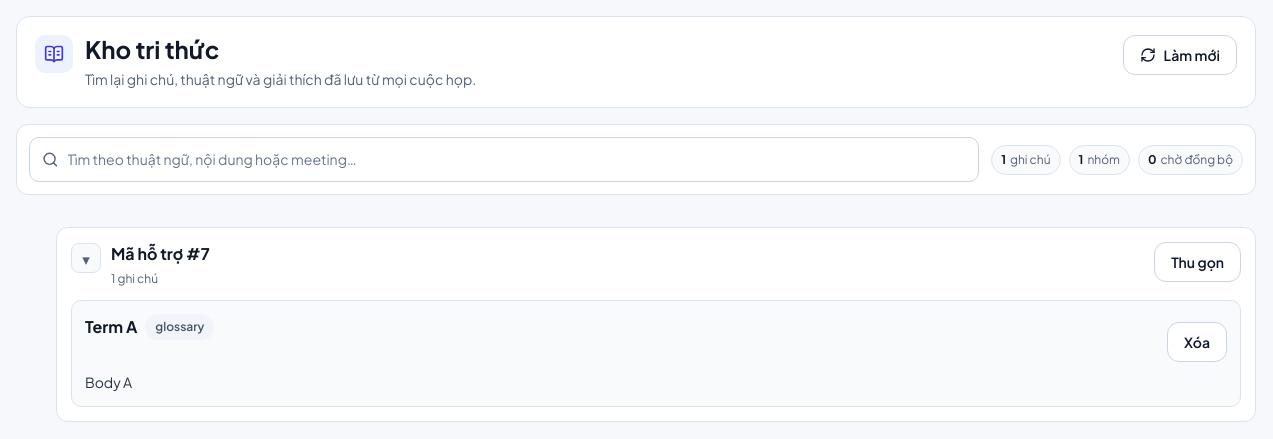
Test case: KnowledgeVaultScene › collapses and expands a meeting group
The width and height of the screenshot is (1273, 439).
Click the button with test id "knowledge-vault-collapse-7". click: [1198, 262]
box: [1154,242,1241,282]
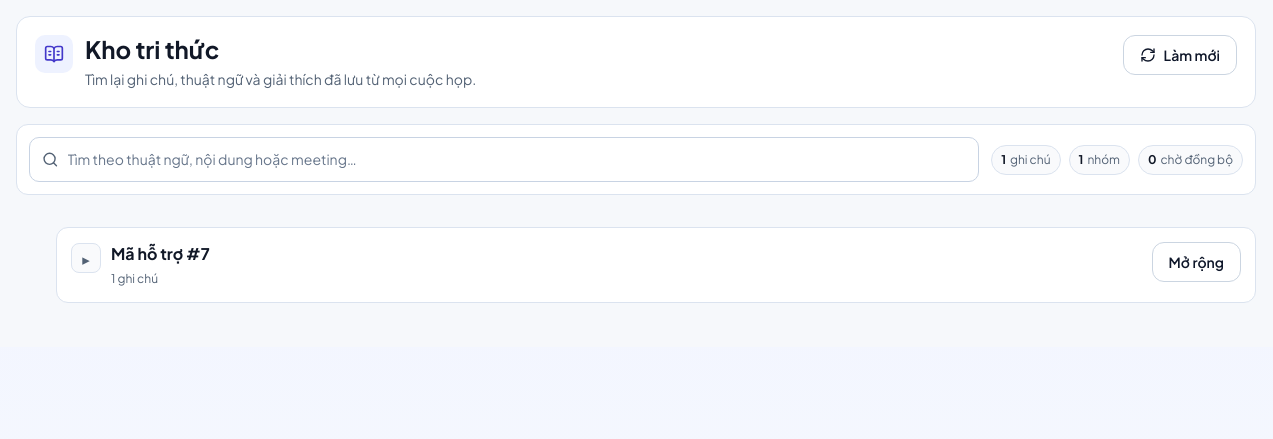
Result: the text "Body A" is gone
Click the button with test id "knowledge-vault-collapse-7". click: [1196, 262]
box: [1152,242,1241,282]
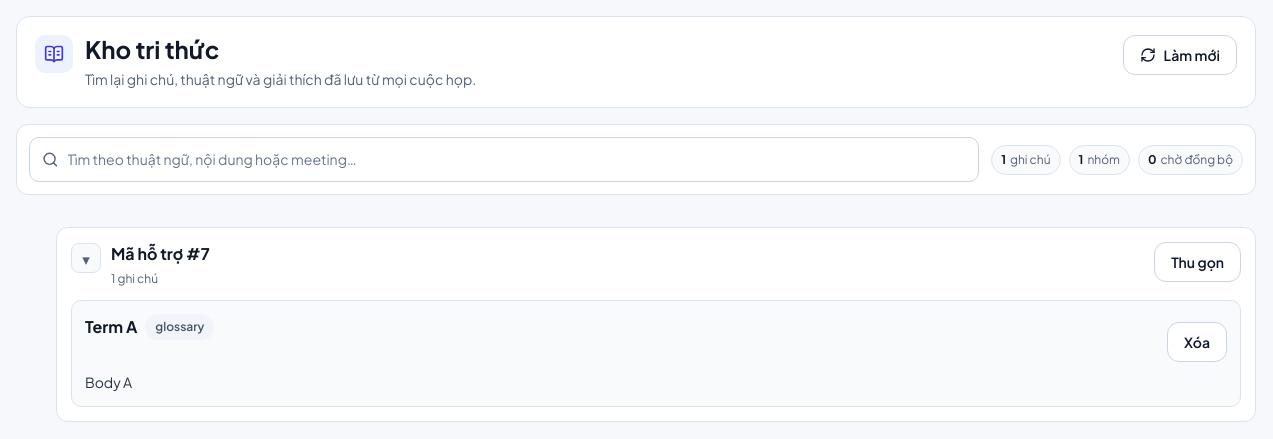
Result: the text "Body A" is shown at [85,373,132,391]
